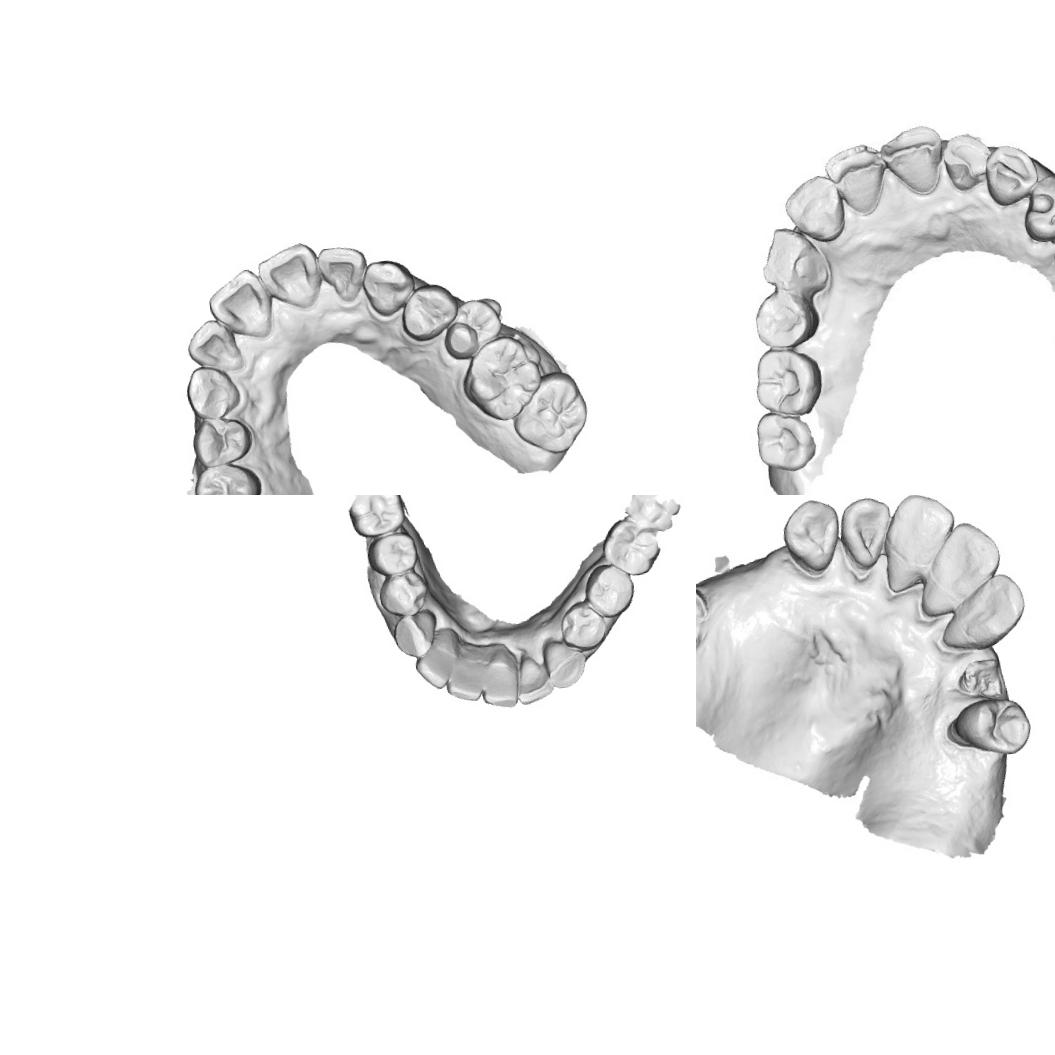canine: (756, 223, 837, 306), (777, 495, 846, 580), (982, 142, 1042, 211), (358, 254, 419, 319), (182, 362, 244, 424), (388, 606, 442, 662), (540, 634, 590, 692)
incisor: (911, 517, 1008, 620), (933, 568, 1032, 657), (876, 495, 962, 595), (202, 264, 276, 345), (253, 239, 324, 316), (835, 495, 898, 574), (881, 125, 948, 196), (784, 173, 848, 244), (826, 143, 886, 214), (181, 314, 247, 378), (314, 241, 372, 305), (409, 632, 462, 694), (942, 132, 994, 190), (512, 650, 558, 707), (476, 656, 520, 712), (441, 654, 486, 707)
molar: (456, 331, 548, 426), (507, 364, 595, 460), (756, 347, 822, 419), (597, 512, 664, 582), (755, 408, 817, 472), (343, 495, 410, 542)
premolar: (941, 692, 1035, 763), (438, 295, 506, 362), (396, 280, 460, 346), (188, 412, 256, 471), (579, 558, 640, 622), (754, 288, 814, 346), (555, 596, 611, 654), (375, 567, 433, 621), (364, 530, 422, 578), (190, 460, 266, 495), (1025, 176, 1055, 238)
